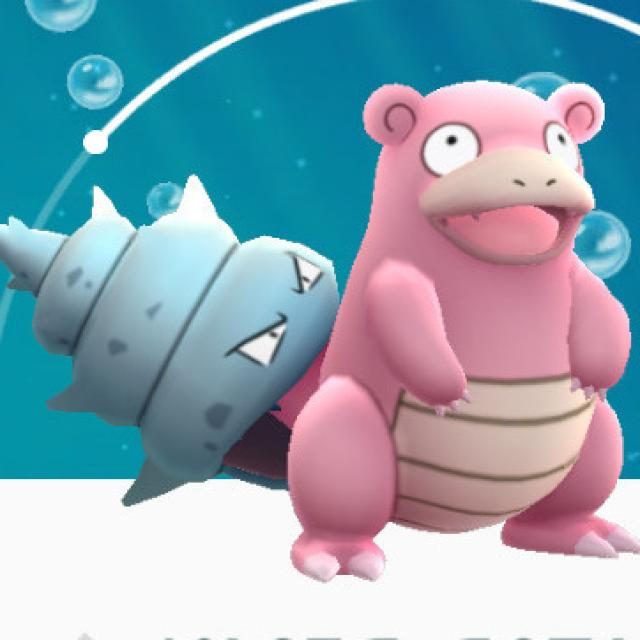Slowbro: (12, 64, 640, 578)
